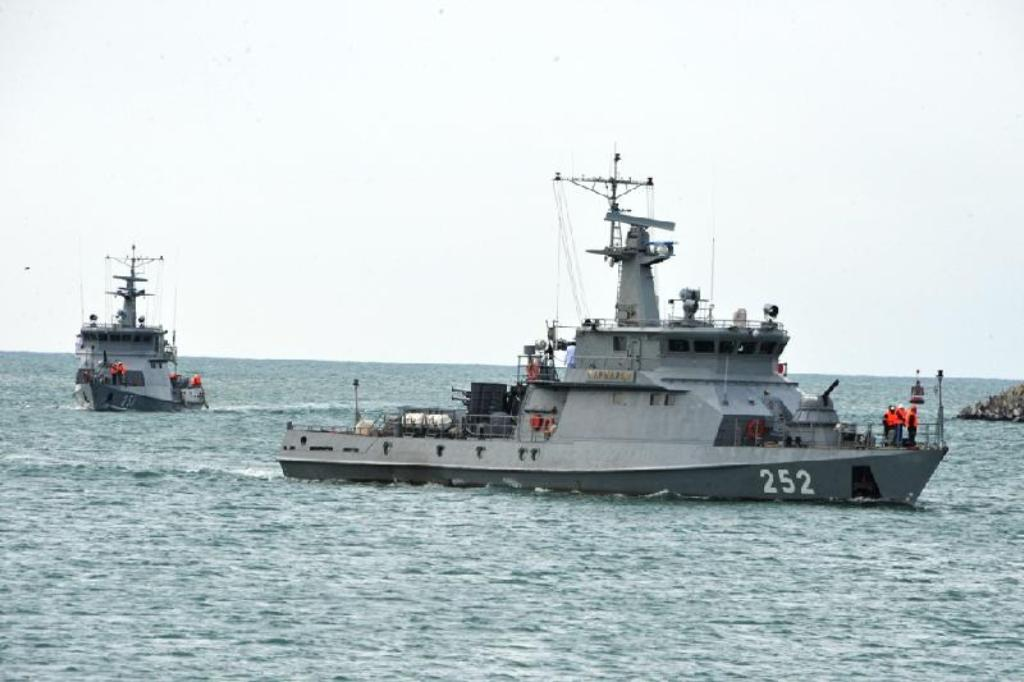Warship: (262, 170, 960, 508), (58, 242, 224, 416)
